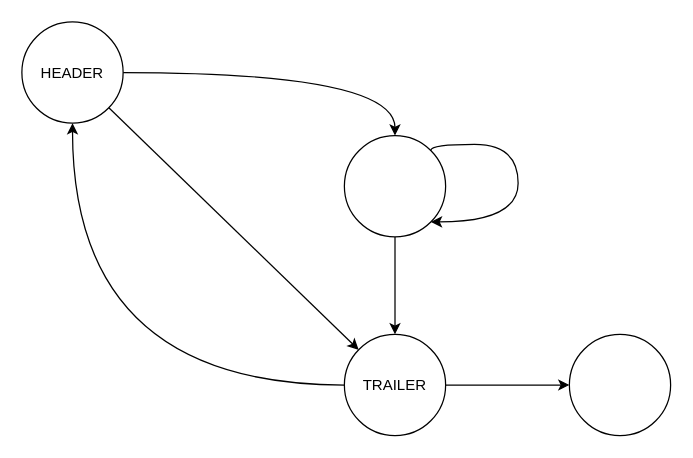
Image size: 693x458. Some labels were removed from this diagram. The centre of each missing label's shape, as x and y in pixels:
"DATA" goes at (394,185).
"END" goes at (619,384).
